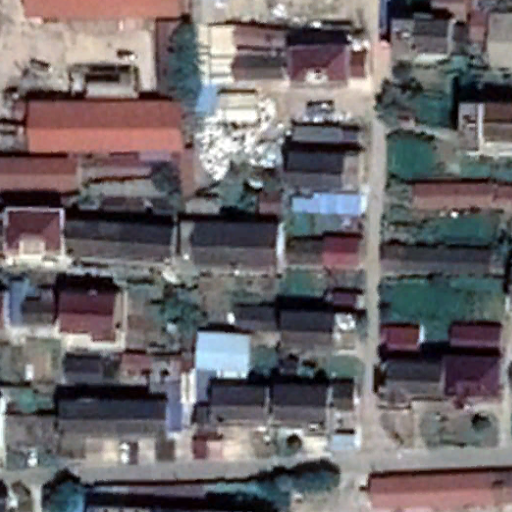msw: (198, 116, 281, 179)
